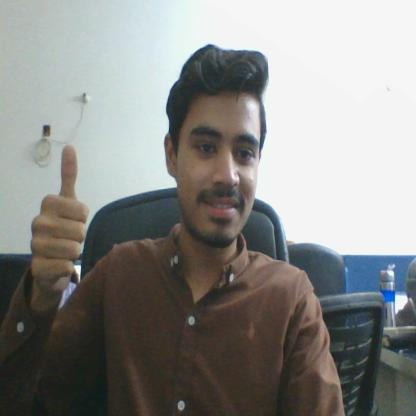thumbs-up: (27, 143, 89, 287)
